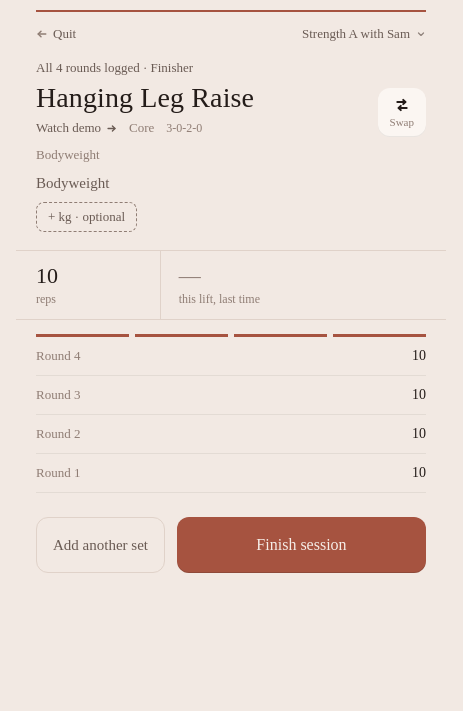
Test: Review › a draft started more than a day before both offers is too old to send
Click the button "Finish session" at x=302, y=545, box [177,517,426,573]
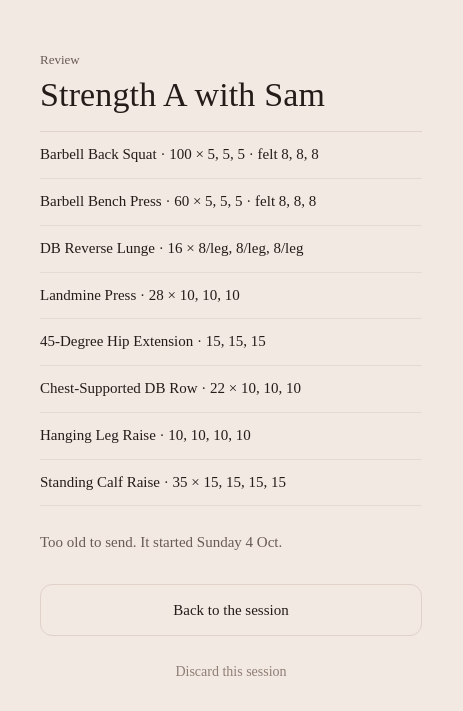
expect the heading reads "Strength A with Sam": met, box [40,76,325,113]
expect the text "Too old to send. It started Sunday 4 Oct." is shown: met, box [40,534,282,550]
expect the button "Discard this session" is shown: met, box [40,650,422,694]
